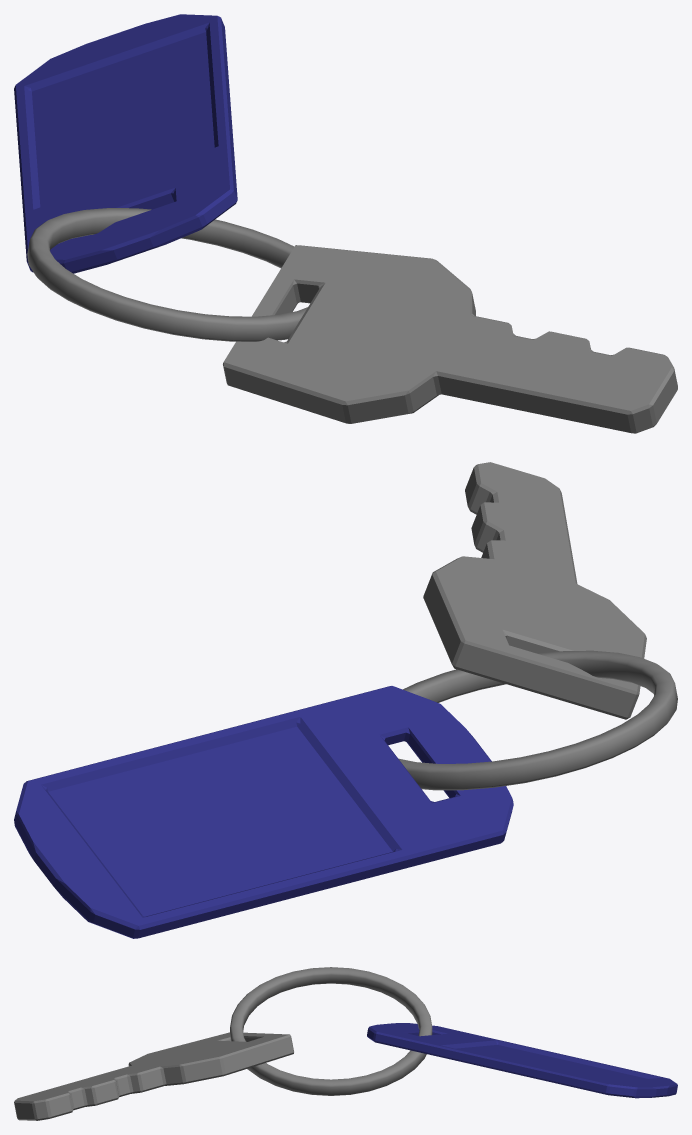
Rendered from kluczeBIG.fbx.
The picture shows the model from 3 angles, top to bottom: view 1: azimuth 30°, elevation 25°; view 2: azimuth 150°, elevation 25°; view 3: azimuth 270°, elevation 25°; orthographic projection. The views are drawn at different scales.
Visible parts, largest first — view 1: Cube.001; view 2: Cube.001; view 3: Cube.001.
Part boxes in pixels (box(x1,y1,x2,y2)): Cube.001: box(14, 14, 677, 433); Cube.001: box(14, 462, 677, 938); Cube.001: box(14, 967, 677, 1120).
Size of the model in its own units: 13.46 by 2.96 by 30.06.
